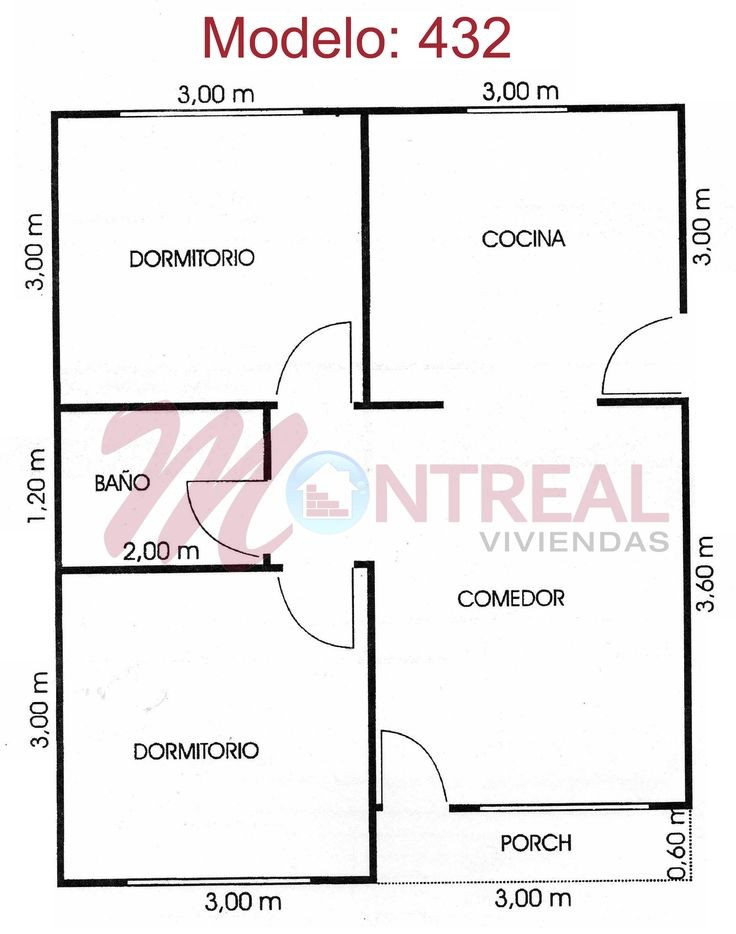door: (260, 315, 357, 407), (181, 468, 268, 551), (274, 575, 362, 652), (596, 318, 676, 399), (378, 728, 453, 807)
room: (368, 411, 690, 811), (53, 569, 378, 886), (358, 103, 690, 409), (48, 109, 371, 410), (52, 402, 274, 568)
wall: (48, 407, 68, 893), (681, 409, 697, 808), (362, 566, 382, 871), (355, 111, 374, 410), (47, 109, 66, 401), (674, 104, 696, 312), (64, 562, 268, 575), (59, 401, 259, 412), (578, 101, 684, 114), (376, 102, 466, 117), (371, 397, 442, 413), (62, 875, 124, 893), (260, 413, 277, 475), (313, 871, 378, 886), (659, 799, 689, 810)
window: (128, 874, 312, 888), (479, 801, 655, 815), (120, 106, 304, 118), (467, 100, 569, 116)
